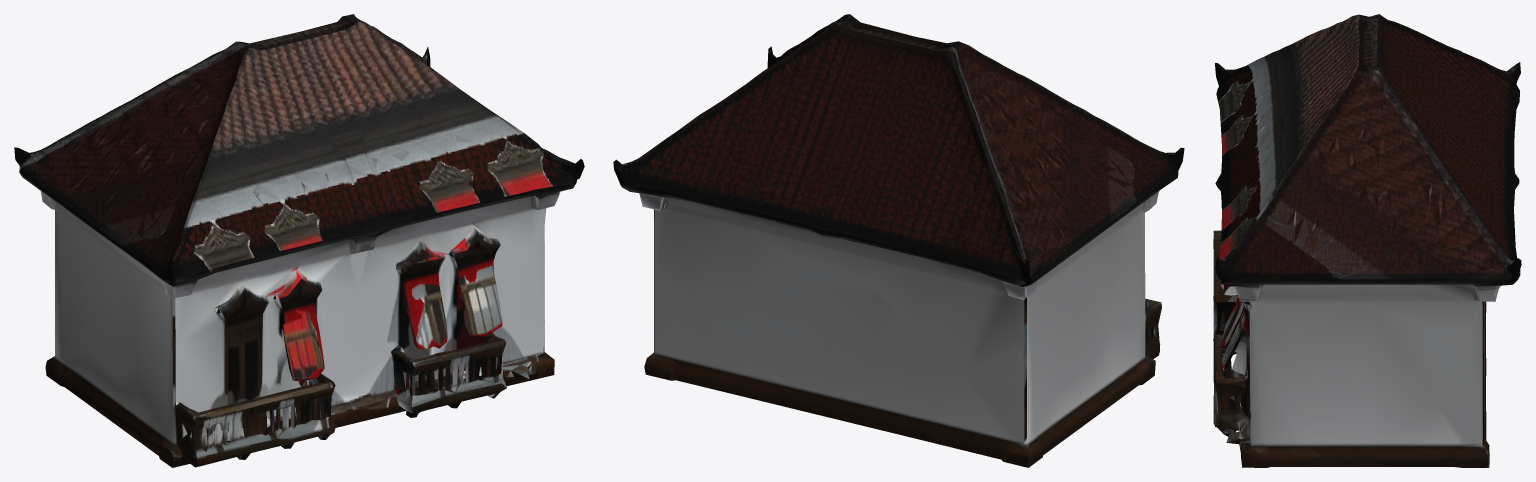
Rendered from ayutthaya_barrio_portugues.glb.
3 renders of one model, left to right at view 1: azimuth 30°, elevation 25°; view 2: azimuth 150°, elevation 25°; view 3: azimuth 270°, elevation 25°, orthographic. The views are drawn at different scales.
Visible parts, largest first — view 1: geometry_0; view 2: geometry_0; view 3: geometry_0.
Part boxes in pixels (bbox=[...]): geometry_0: bbox=[14, 14, 584, 467]; geometry_0: bbox=[613, 14, 1184, 467]; geometry_0: bbox=[1213, 14, 1521, 467].
Bounding box in the file's own units: 2.4 × 1.9 × 1.58.
Materials: 1 (1 with a texture image).
